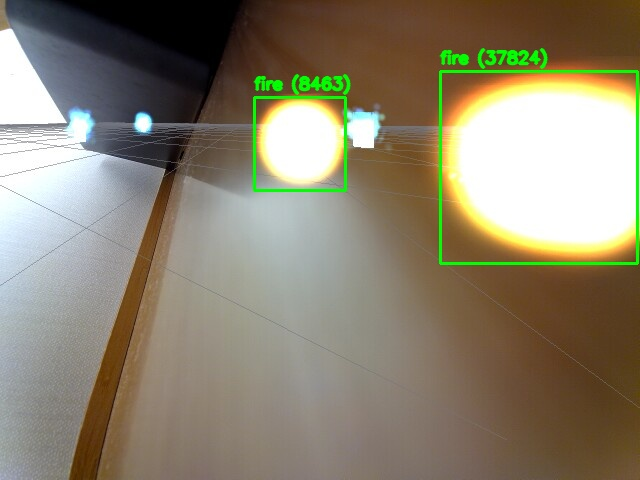fire: (440, 71, 637, 263), (254, 97, 345, 190)
